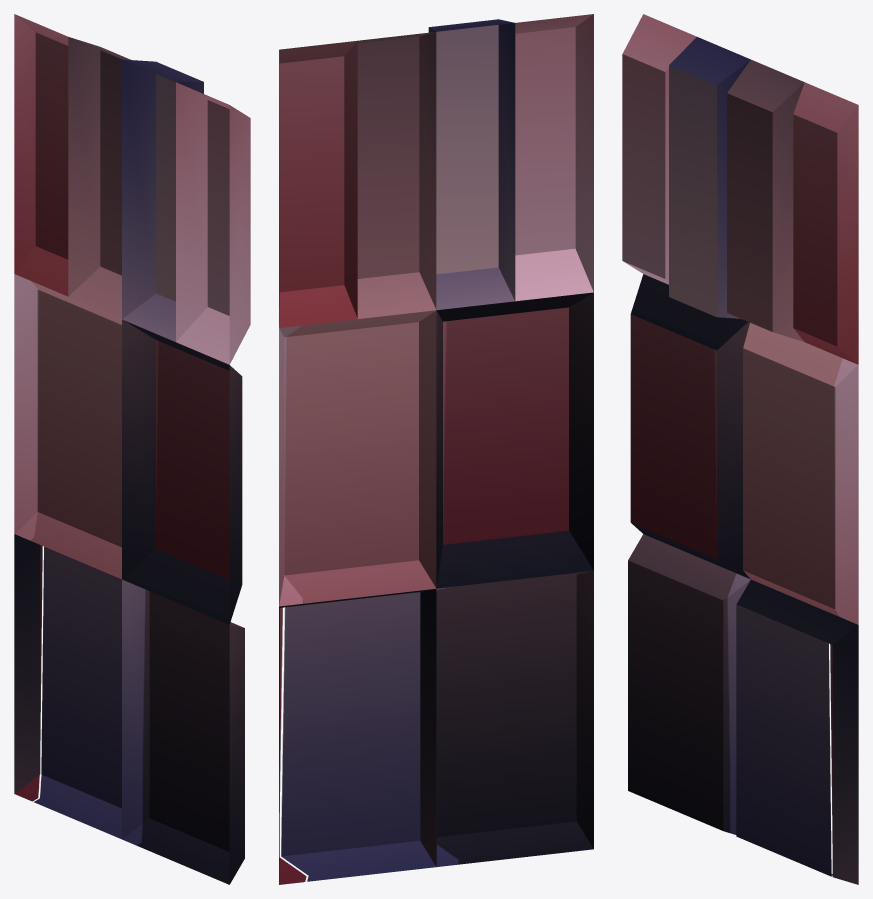
Rendered from Mineral3.Prop.2.fbx.
3 views of the same model, side by side, from view 1: azimuth 90°, elevation 25°; view 2: azimuth 150°, elevation 25°; view 3: azimuth 270°, elevation 25° (orthographic). The views are drawn at different scales.
Parts seen in each view (by area): view 1: Ruina3.Prop.2; view 2: Ruina3.Prop.2; view 3: Ruina3.Prop.2.
Boxes of the visible parts, <box> form: Ruina3.Prop.2: <box>14,14,250,884</box>; Ruina3.Prop.2: <box>279,14,593,884</box>; Ruina3.Prop.2: <box>622,14,858,884</box>.
Bounding box in the file's own units: 107 × 400 × 110.
